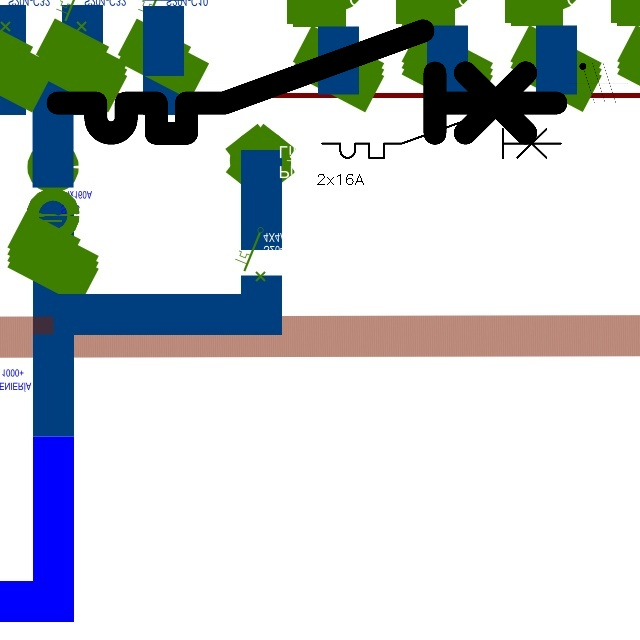interruptor_termomagnetico: (45, 18, 568, 146), (316, 103, 566, 164)
